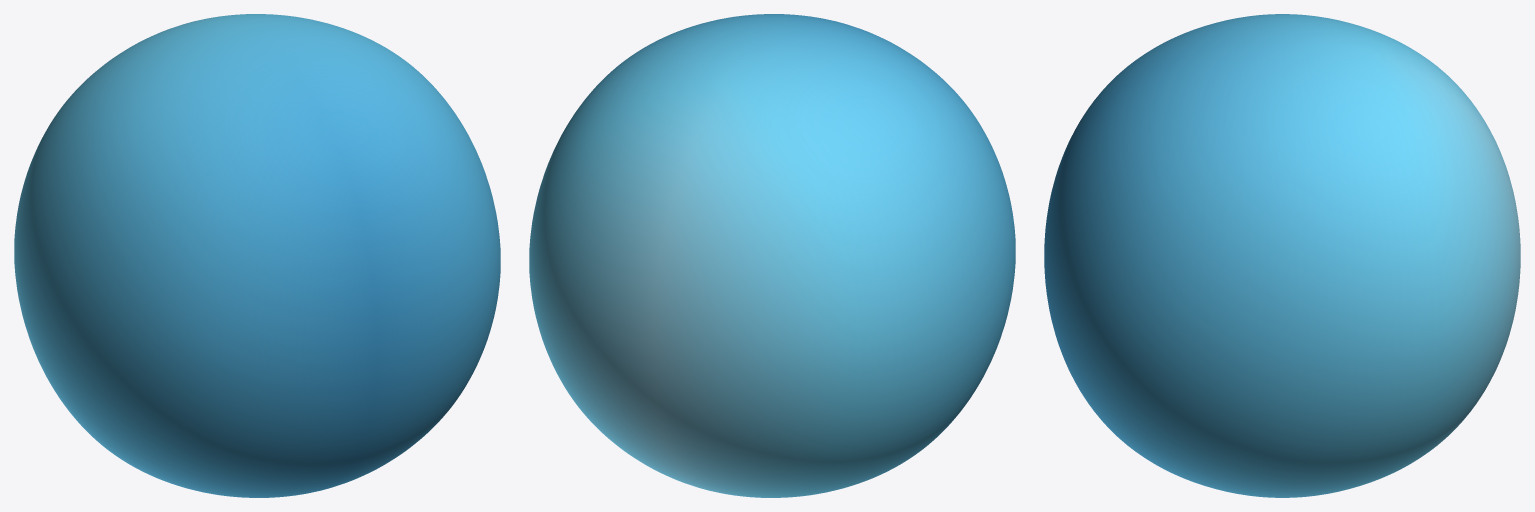
Rendered from Skybox.fbx.
The picture shows the model from 3 angles, left to right: view 1: azimuth 30°, elevation 25°; view 2: azimuth 150°, elevation 25°; view 3: azimuth 270°, elevation 25°; orthographic projection.
Parts seen in each view (by area): view 1: Cube; view 2: Cube; view 3: Cube.
Part boxes in pixels (bbox=[...]): Cube: bbox=[14, 14, 500, 497]; Cube: bbox=[529, 14, 1015, 497]; Cube: bbox=[1044, 14, 1520, 497].
Size of the model in its own units: 168 by 168 by 168.
